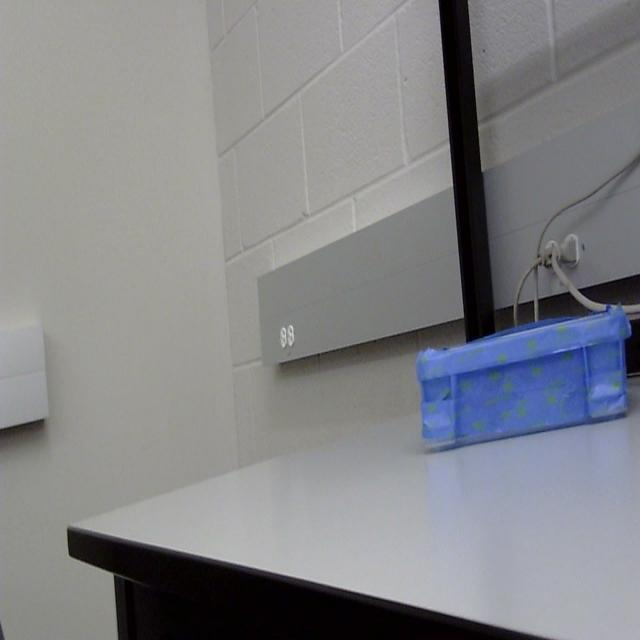bucket: (414, 298, 633, 454)
